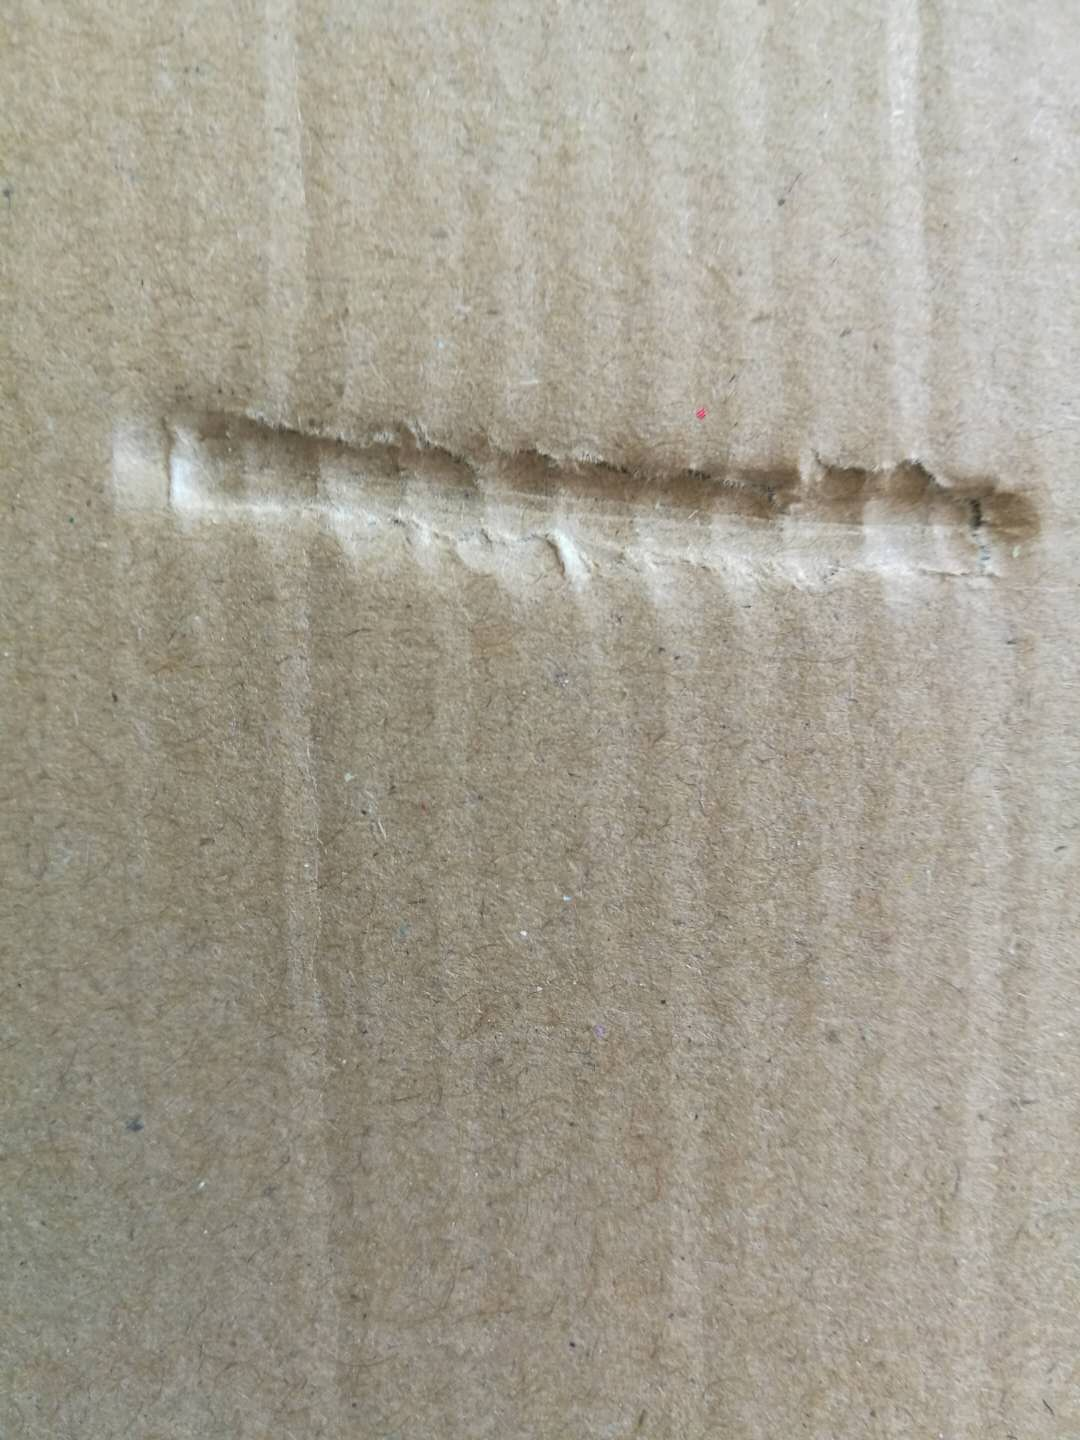defect: (57, 339, 1066, 661), (223, 2, 439, 1438)
